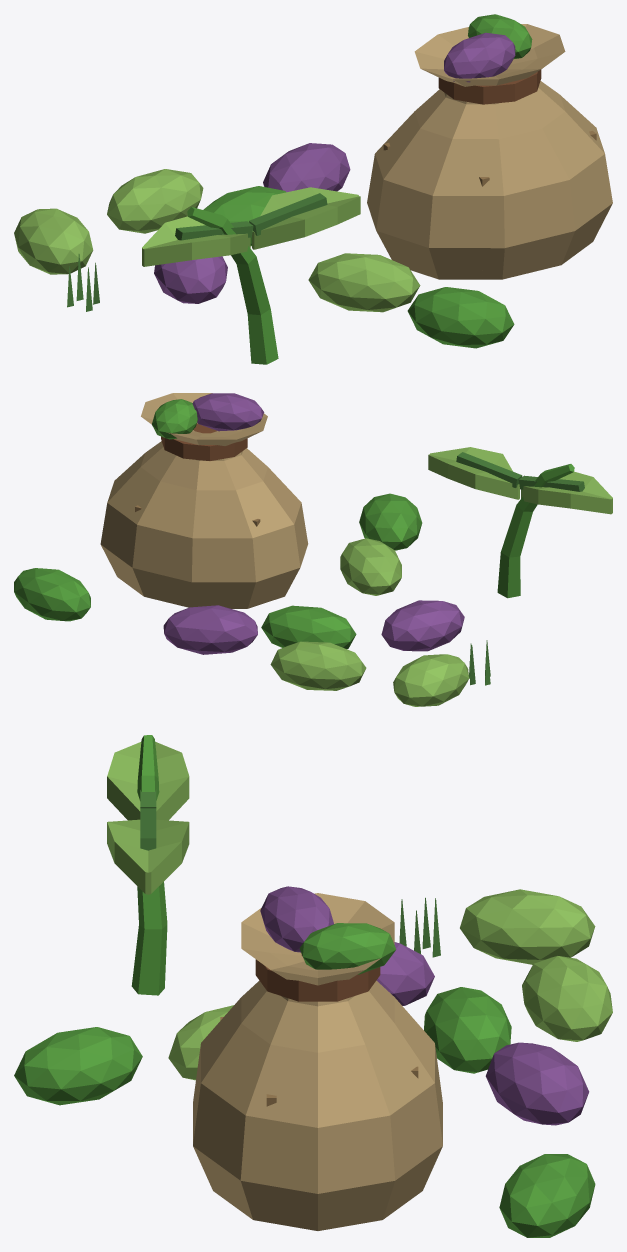
Rendered from Decor_Beanstalk_Beans.fbx.
3 renders of one model, top to bottom at view 1: azimuth 30°, elevation 25°; view 2: azimuth 150°, elevation 25°; view 3: azimuth 270°, elevation 25°, orthographic. The views are drawn at different scales.
Visible parts, largest first — view 1: Beans_Body; view 2: Beans_Body; view 3: Beans_Body.
Part boxes in pixels (left/top/right/bottom): Beans_Body: left=14, top=14, right=612, bottom=364; Beans_Body: left=14, top=393, right=612, bottom=706; Beans_Body: left=14, top=735, right=612, bottom=1237.
Size of the model in its own units: 14.9 by 5.6 by 11.2.
